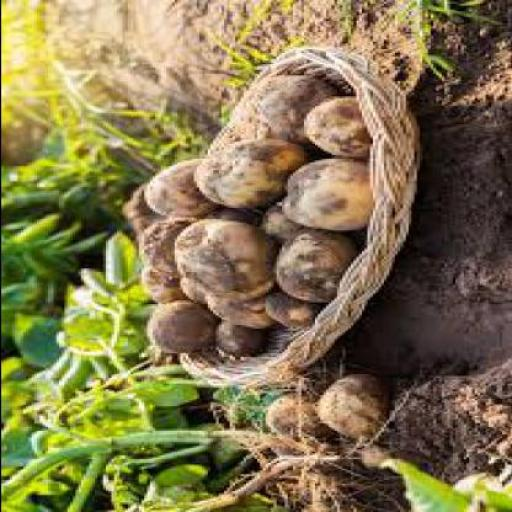biodegradable: (187, 136, 316, 206), (168, 218, 275, 296), (225, 70, 336, 142), (270, 153, 369, 231), (273, 226, 349, 303), (314, 368, 385, 432), (297, 95, 369, 155), (140, 156, 210, 216), (140, 297, 210, 353), (261, 391, 333, 436), (136, 215, 190, 272), (253, 289, 319, 326), (204, 293, 264, 325), (116, 185, 151, 231), (212, 319, 258, 353), (140, 265, 179, 304), (174, 274, 206, 308), (198, 206, 265, 222)
